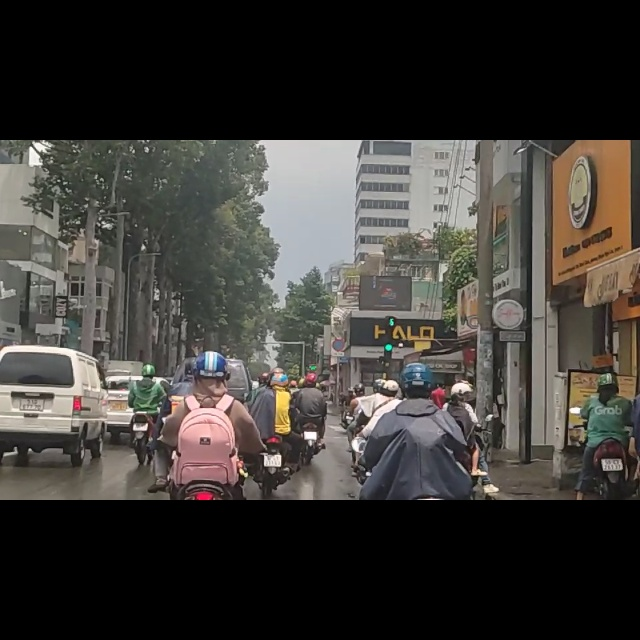bien_cam: (331, 350, 347, 377)
